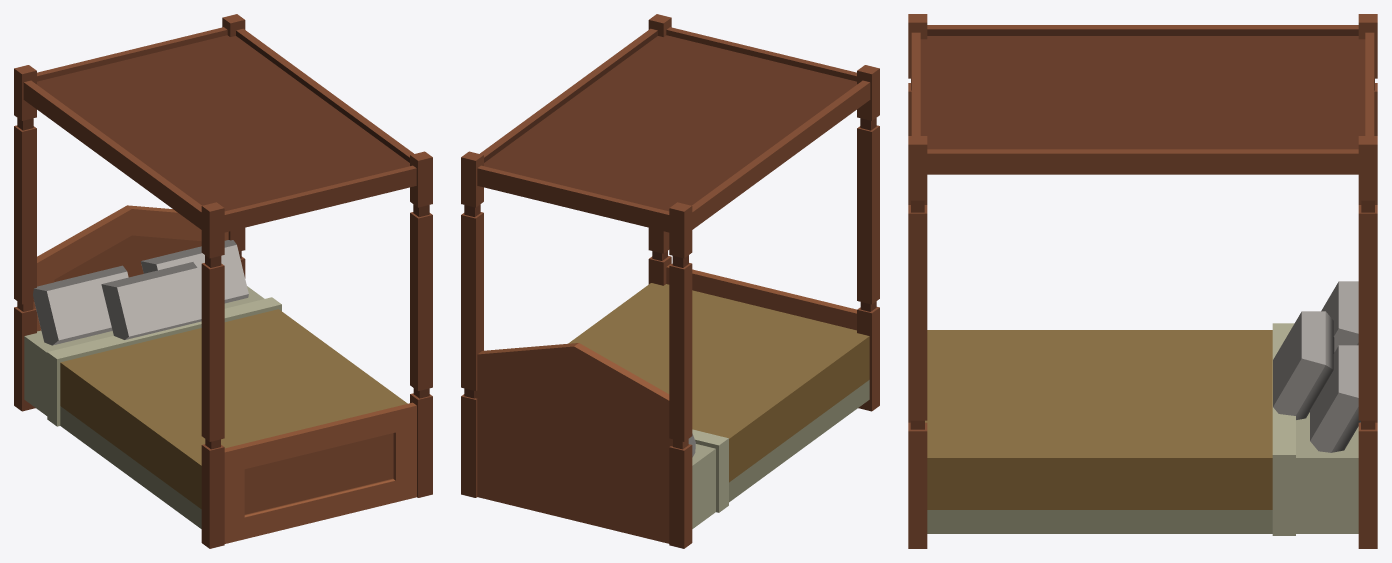
File: SM_Prop_Bed_08.glb
3 views of the same model, side by side, from view 1: azimuth 30°, elevation 25°; view 2: azimuth 150°, elevation 25°; view 3: azimuth 270°, elevation 25° (orthographic). The views are drawn at different scales.
Parts seen in each view (by area): view 1: SM_Prop_Bed_08; view 2: SM_Prop_Bed_08; view 3: SM_Prop_Bed_08.
Boxes of the visible parts, box(x1,y1,x2,y2) form: SM_Prop_Bed_08: box(14, 14, 432, 548); SM_Prop_Bed_08: box(461, 14, 879, 548); SM_Prop_Bed_08: box(908, 14, 1377, 548).
Bounding box in the file's own units: 0.0334 × 0.0479 × 0.0504.
Materials: 1 (1 with a texture image).
